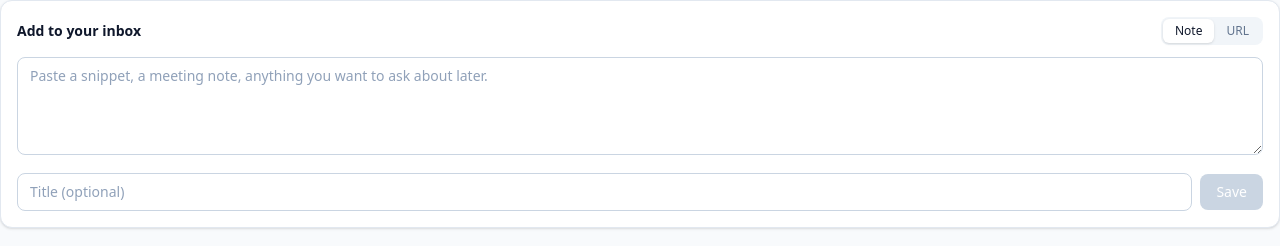
it: AddSourceForm › disables submit until there is something to save
Expected: the button "Save" is disabled, [1200,174,1263,210]
Step 1. Type "a note" into the text box named "note text" → (640, 106), box [17,57,1263,155]
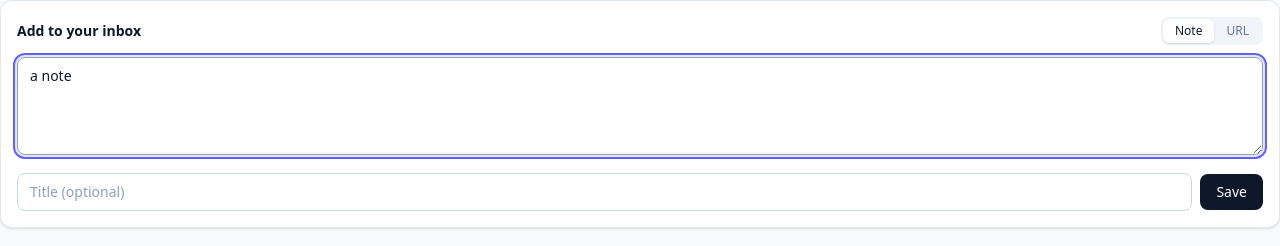
Expected: the button "Save" is enabled, [1200,174,1263,210]
